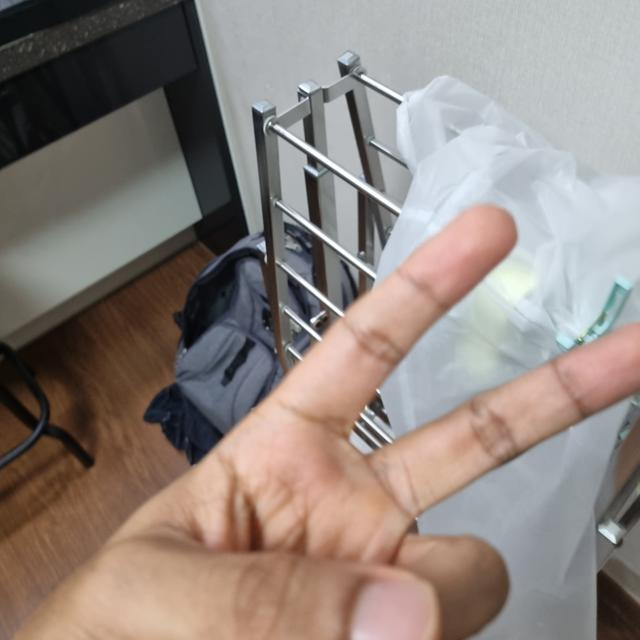Scissors: (8, 203, 640, 637)
